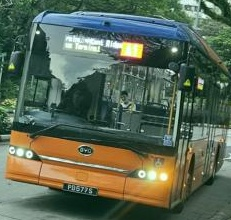bus: (119, 41, 142, 60)
